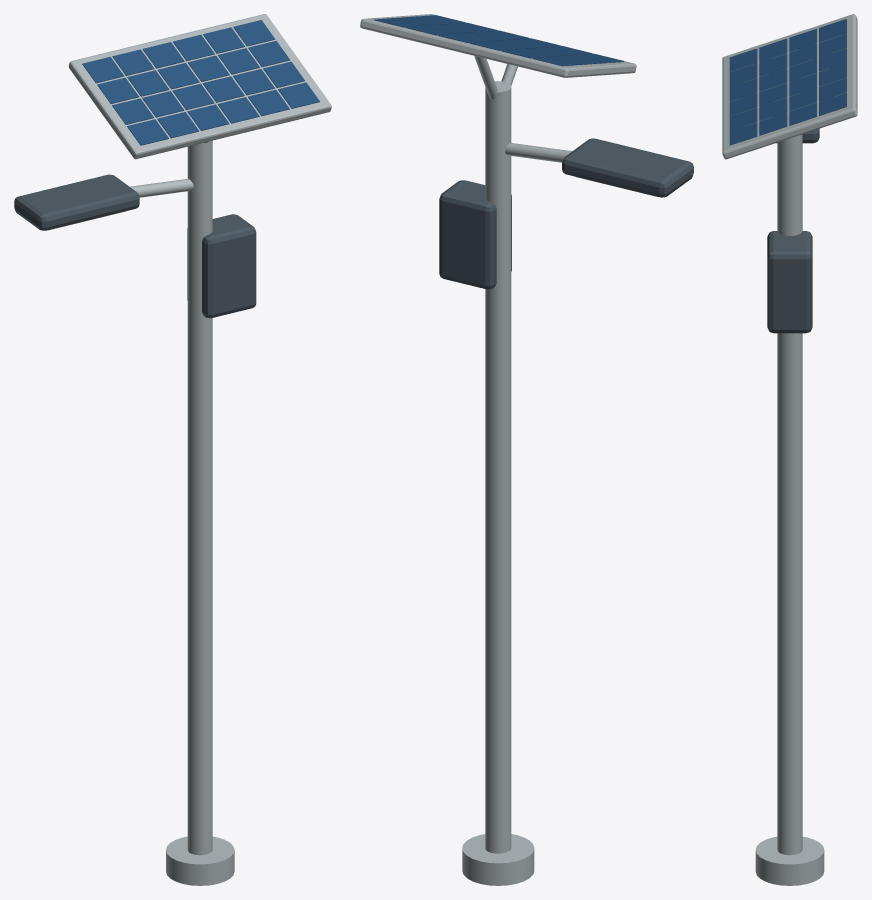
File: street_solar.glb
The picture shows the model from 3 angles, left to right: view 1: azimuth 30°, elevation 25°; view 2: azimuth 150°, elevation 25°; view 3: azimuth 270°, elevation 25°; orthographic projection. The views are drawn at different scales.
Visible parts, largest first — view 1: Solar light pole, Metal framed solar panel, Attached battery cabinet, Solar LED luminaire, Solar post mounting flange, Solar luminaire support, Individual dark-blue solar cell.011, Individual dark-blue solar cell.012, Individual dark-blue solar cell, Individual dark-blue solar cell.007, Individual dark-blue solar cell.009, Individual dark-blue solar cell.016 (+18 smaller); view 2: Solar light pole, Attached battery cabinet, Solar LED luminaire, Metal framed solar panel, Solar post mounting flange, Solar luminaire support; view 3: Solar light pole, Metal framed solar panel, Attached battery cabinet, Solar post mounting flange, Individual dark-blue solar cell.004, Individual dark-blue solar cell.001, Individual dark-blue solar cell.005, Individual dark-blue solar cell.021, Individual dark-blue solar cell.008, Individual dark-blue solar cell.009, Individual dark-blue solar cell.012, Individual dark-blue solar cell.017 (+16 smaller).
Boxes of the visible parts, left/top/right/bottom form: Solar light pole: left=187, top=140, right=212, bottom=855; Metal framed solar panel: left=68, top=14, right=331, bottom=159; Attached battery cabinet: left=187, top=214, right=256, bottom=318; Solar LED luminaire: left=14, top=174, right=139, bottom=230; Solar post mounting flange: left=166, top=836, right=234, bottom=885; Solar luminaire support: left=130, top=179, right=193, bottom=197; Individual dark-blue solar cell.011: left=142, top=42, right=184, bottom=68; Individual dark-blue solar cell.012: left=217, top=97, right=259, bottom=123; Individual dark-blue solar cell: left=127, top=119, right=168, bottom=145; Individual dark-blue solar cell.007: left=112, top=49, right=154, bottom=75; Individual dark-blue solar cell.009: left=172, top=83, right=214, bottom=109; Individual dark-blue solar cell.016: left=248, top=90, right=289, bottom=116; Solar light pole: left=485, top=81, right=511, bottom=853; Attached battery cabinet: left=439, top=180, right=511, bottom=289; Solar LED luminaire: left=562, top=138, right=693, bottom=197; Metal framed solar panel: left=360, top=14, right=636, bottom=77; Solar post mounting flange: left=462, top=834, right=534, bottom=885; Solar luminaire support: left=505, top=143, right=572, bottom=162; Solar light pole: left=777, top=134, right=802, bottom=855; Metal framed solar panel: left=722, top=14, right=857, bottom=159; Attached battery cabinet: left=767, top=231, right=812, bottom=333; Solar post mounting flange: left=755, top=836, right=824, bottom=885; Individual dark-blue solar cell.004: left=729, top=63, right=757, bottom=86; Individual dark-blue solar cell.001: left=759, top=38, right=787, bottom=61; Individual dark-blue solar cell.005: left=759, top=53, right=787, bottom=76; Individual dark-blue solar cell.021: left=759, top=112, right=787, bottom=135; Individual dark-blue solar cell.008: left=729, top=78, right=757, bottom=101; Individual dark-blue solar cell.009: left=759, top=68, right=787, bottom=91; Individual dark-blue solar cell.012: left=729, top=92, right=757, bottom=115; Individual dark-blue solar cell.017: left=759, top=97, right=787, bottom=120.
Size of the model in its own units: 1.33 by 3.77 by 0.5705.
